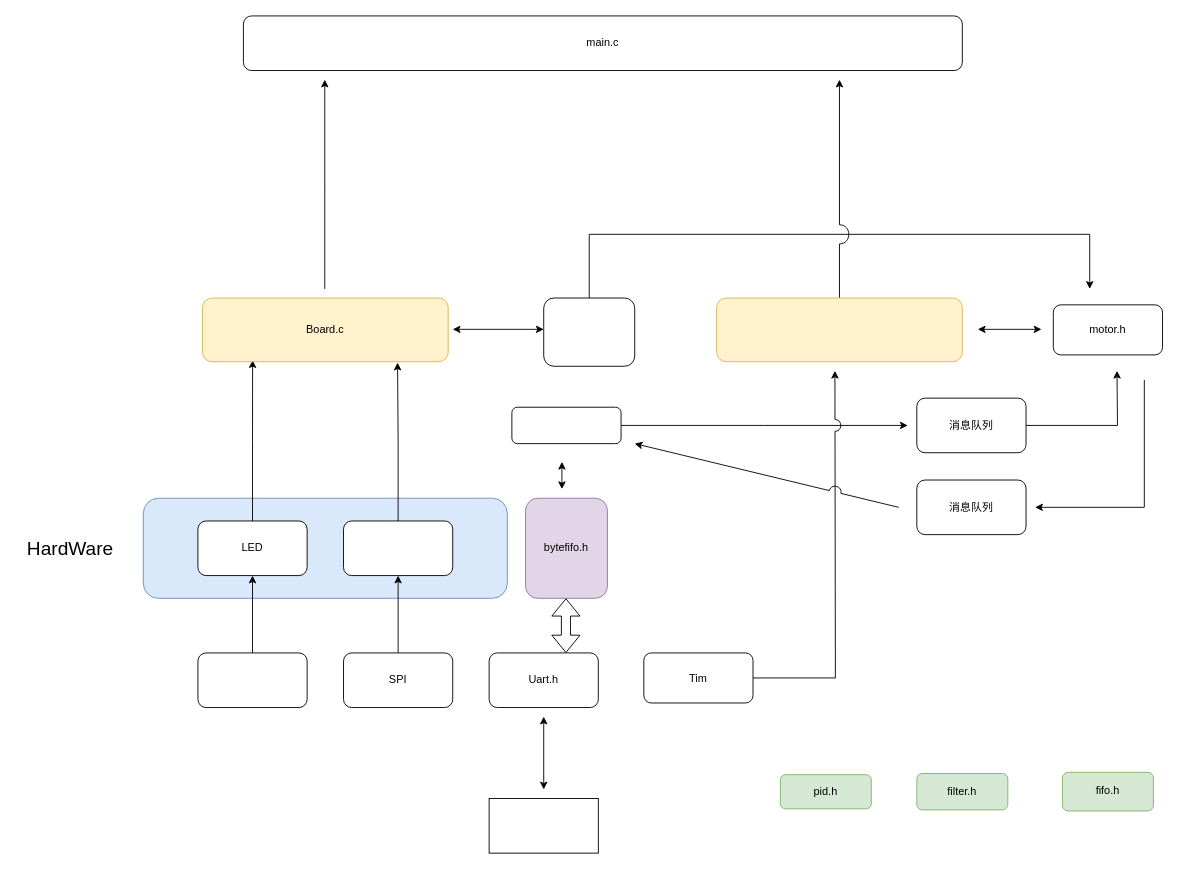
Some shapes in this 1178 by 869 pixel diagram are drawn without their labels. Each missing label, with the centre of its shape:
"GPIO" goes at [252,680].
"MT6816" goes at [398,548].
"ProjectManage.c" goes at [839,329].
"protocol.h" goes at [566,425].
"sensor.h" goes at [589,331].
"上位机" goes at [543,825].
